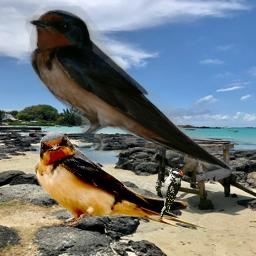Swallow: (24, 6, 236, 174), (33, 131, 208, 238)
Woodpecker: (155, 167, 183, 218)
